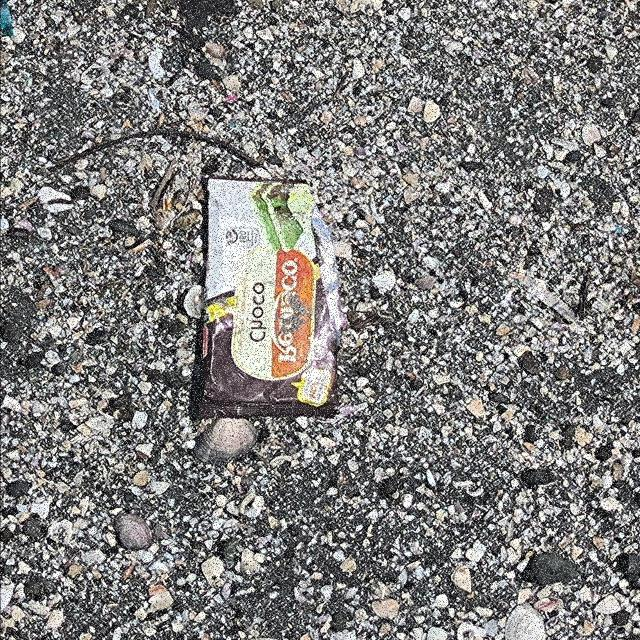plastic_waste: (200, 179, 340, 421)
